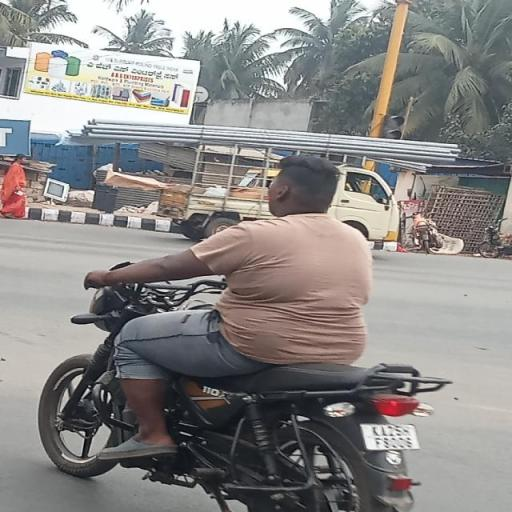bike: (32, 141, 466, 512)
numberplate: (364, 422, 424, 452)
withouthelmet: (273, 157, 335, 208)
